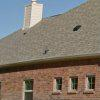Chimney: (17, 2, 52, 32)
